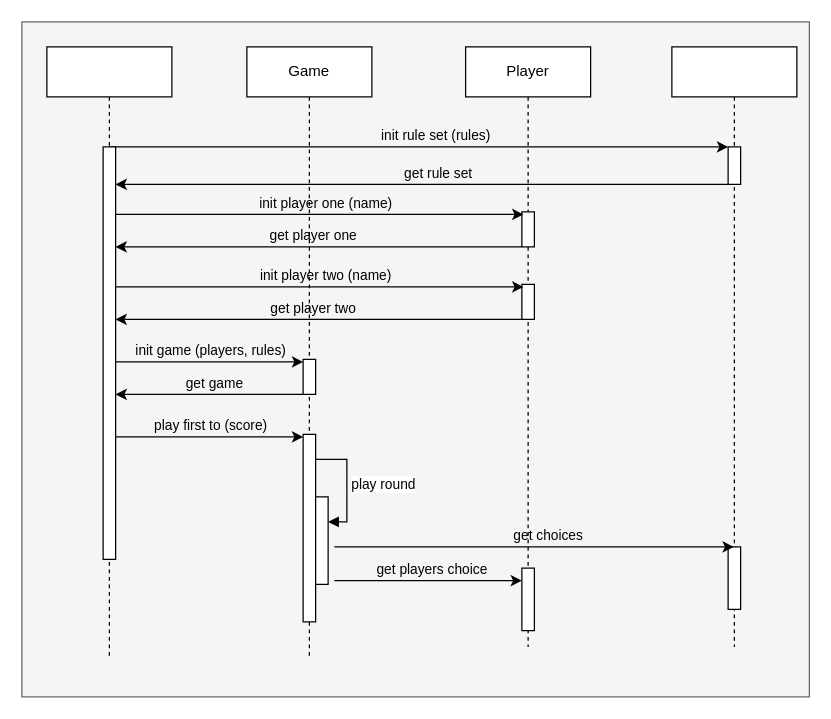
The diagram is 831 pixels wide and 719 high, and some of its shapes have lost their labels. Each missing label, with the box of its shape:
RuleSet: (671, 46, 797, 647)
User: (46, 46, 172, 659)
